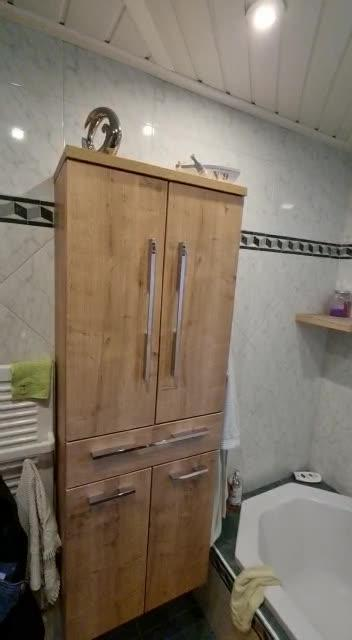cabinet_door: (65, 172, 165, 432), (169, 184, 238, 417), (72, 487, 147, 622), (155, 464, 215, 586), (64, 431, 225, 464)
handle: (87, 426, 212, 466), (175, 229, 190, 371), (85, 481, 148, 513), (148, 231, 161, 368), (170, 458, 214, 489)
